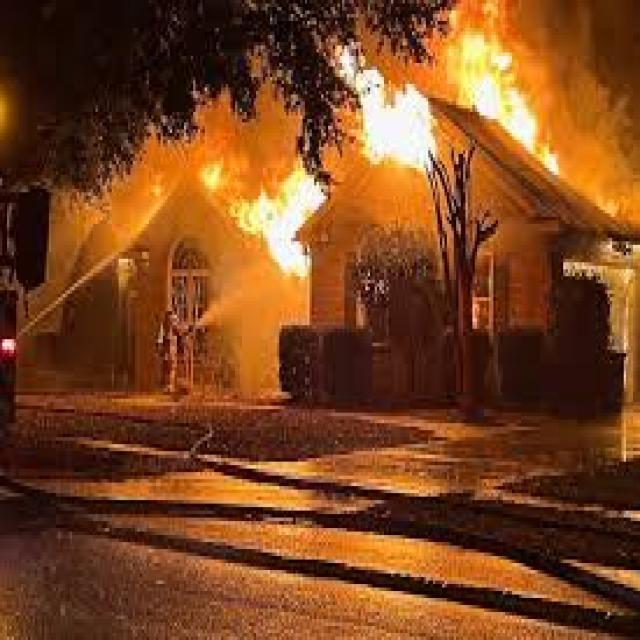Fire: (433, 0, 586, 184), (242, 156, 342, 288), (351, 51, 445, 185)
